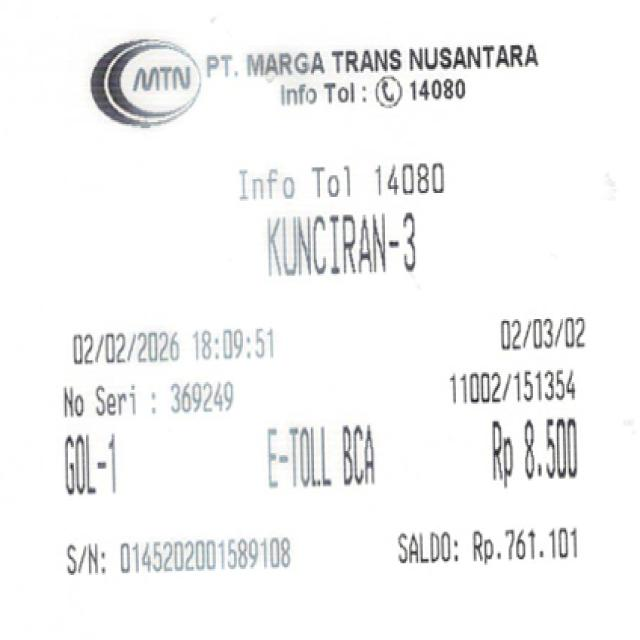date: (56, 322, 300, 364)
store: (188, 47, 554, 75)
total: (467, 413, 584, 496)
